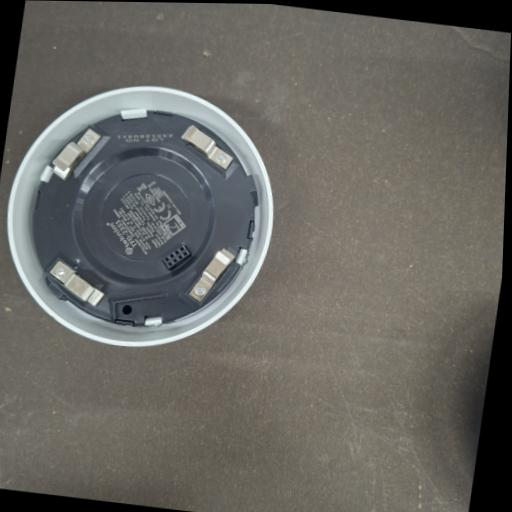yayli: (48, 123, 105, 186), (42, 258, 107, 308), (176, 124, 239, 173), (187, 246, 232, 307)
